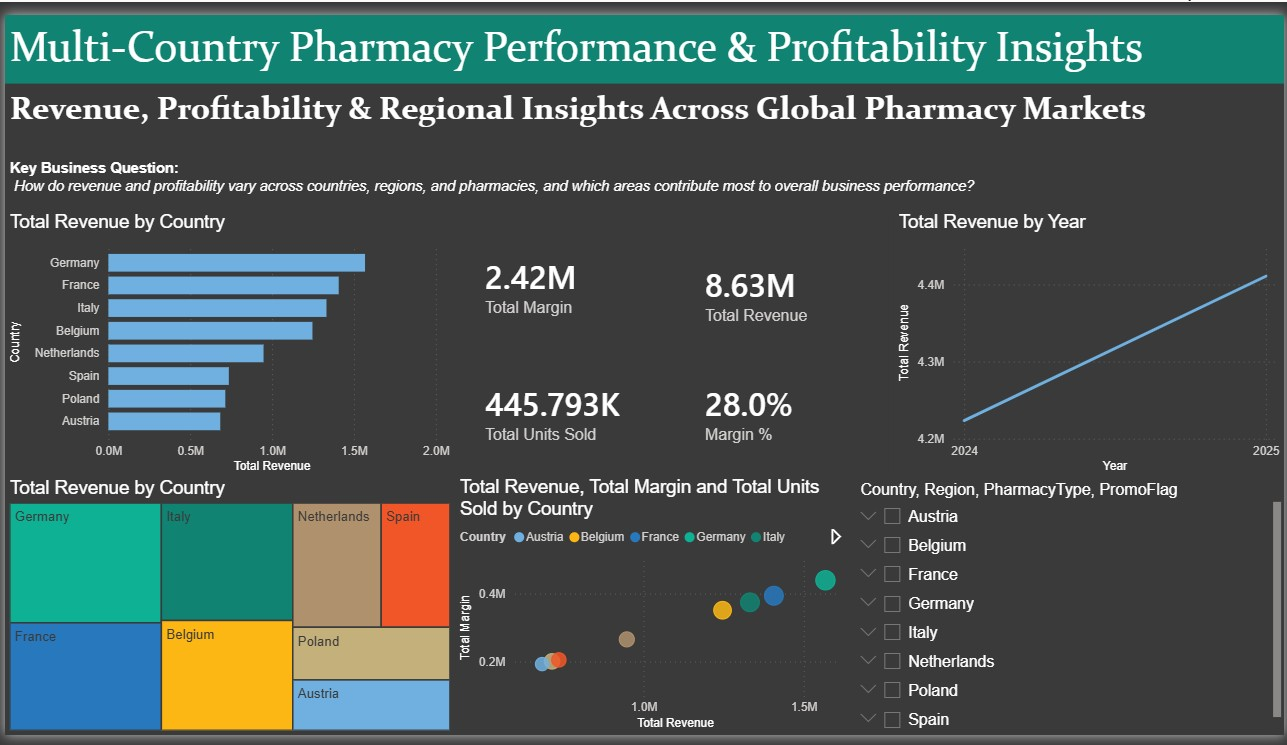

Layout of this report page (visuals, bound fields, positions):
{"tool":"powerbi","page":{"name":"Executive Summary","canvas":[1280,720],"ordinal":0},"visuals":[{"type":"cardVisual","fields":{"Data":["FactSales.Total Margin"]},"box":[450,196.2,220,147.5],"z":1},{"type":"cardVisual","fields":{"Data":["FactSales.Total Units Sold"]},"box":[450,343.8,220,105],"z":2},{"type":"cardVisual","fields":{"Data":["FactSales.Margin %"]},"box":[670,343.8,218.8,105],"z":3},{"type":"lineChart","fields":{"Category":["DimDate.Year"],"Y":["FactSales.Total Revenue"]},"box":[888.8,196.2,391.2,266.2],"z":4},{"type":"clusteredBarChart","fields":{"Category":["DimPharmacy.Country"],"Y":["FactSales.Total Revenue"]},"box":[0,196.2,450,266.2],"z":5},{"type":"slicer","fields":{"Values":["DimPharmacy.Country","DimPharmacy.Region","DimPharmacy.PharmacyType","FactSales.PromoFlag"]},"box":[842,461.7,438.3,258],"z":6},{"type":"textbox","box":[0,140,1280,57.5],"z":7},{"type":"scatterChart","fields":{"X":["FactSales.Total Revenue"],"Y":["FactSales.Total Margin"],"Series":["DimPharmacy.Country"],"Size":["FactSales.Total Units Sold"]},"box":[450.6,461.7,400,258],"z":9},{"type":"textbox","box":[0,0,1280,68.8],"z":10},{"type":"textbox","box":[0,68.8,1280,71.2],"z":11},{"type":"cardVisual","fields":{"Data":["FactSales.Total Revenue"]},"box":[670,196.2,215,163.8],"z":12},{"type":"treemap","fields":{"Group":["DimPharmacy.Country","DimProduct.Category"],"Values":["FactSales.Total Revenue"]},"box":[0,462,450,258],"z":13}]}

Visuals, with their boxes in screenshot pixels (x1, y1, x2, y2), scaled from the page's 1280x720 canvas onto the 1287x745 screenshot:
cardVisual - FactSales.Total Margin: {"x1": 452, "y1": 203, "x2": 674, "y2": 356}
cardVisual - FactSales.Total Units Sold: {"x1": 452, "y1": 356, "x2": 674, "y2": 464}
cardVisual - FactSales.Margin %: {"x1": 674, "y1": 356, "x2": 894, "y2": 464}
lineChart - DimDate.Year x FactSales.Total Revenue: {"x1": 894, "y1": 203, "x2": 1286, "y2": 478}
clusteredBarChart - DimPharmacy.Country x FactSales.Total Revenue: {"x1": 0, "y1": 203, "x2": 452, "y2": 478}
slicer - DimPharmacy.Country x DimPharmacy.Region: {"x1": 847, "y1": 478, "x2": 1286, "y2": 744}
textbox: {"x1": 0, "y1": 145, "x2": 1286, "y2": 204}
scatterChart - FactSales.Total Revenue x FactSales.Total Margin: {"x1": 453, "y1": 478, "x2": 855, "y2": 744}
textbox: {"x1": 0, "y1": 0, "x2": 1286, "y2": 71}
textbox: {"x1": 0, "y1": 71, "x2": 1286, "y2": 145}
cardVisual - FactSales.Total Revenue: {"x1": 674, "y1": 203, "x2": 890, "y2": 373}
treemap - DimPharmacy.Country x DimProduct.Category: {"x1": 0, "y1": 478, "x2": 452, "y2": 744}
